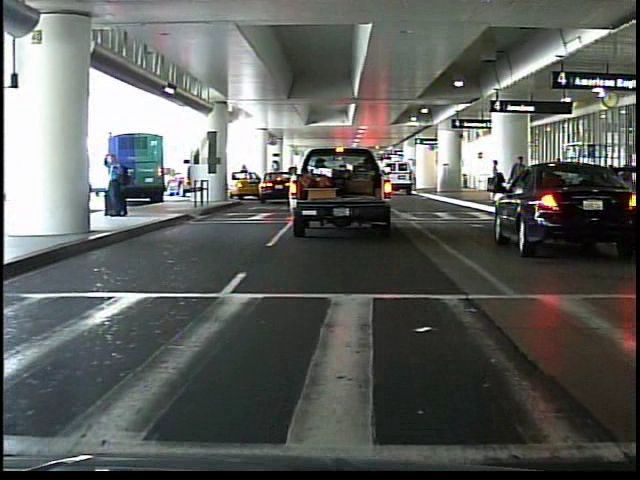person: (103, 151, 133, 224), (487, 155, 513, 210), (509, 152, 529, 208)
